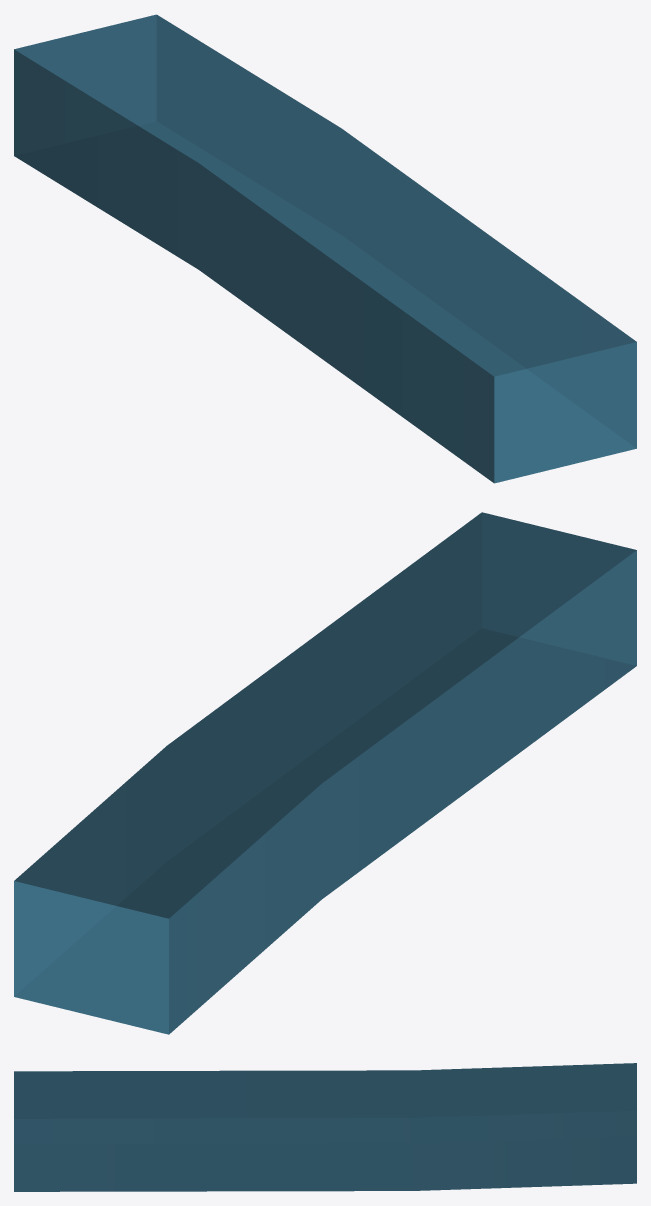
Rendered from agua_canal_exterior.fbx.
The picture shows the model from 3 angles, top to bottom: view 1: azimuth 30°, elevation 25°; view 2: azimuth 150°, elevation 25°; view 3: azimuth 270°, elevation 25°; orthographic projection. The views are drawn at different scales.
Parts seen in each view (by area): view 1: agua_canal_exterior; view 2: agua_canal_exterior; view 3: agua_canal_exterior.
Part boxes in pixels (x1,y1,x2,y2): agua_canal_exterior: [14, 14, 636, 483]; agua_canal_exterior: [14, 512, 636, 1034]; agua_canal_exterior: [14, 1063, 636, 1191].
Size of the model in its own units: 7.62 by 4.65 by 35.93.
